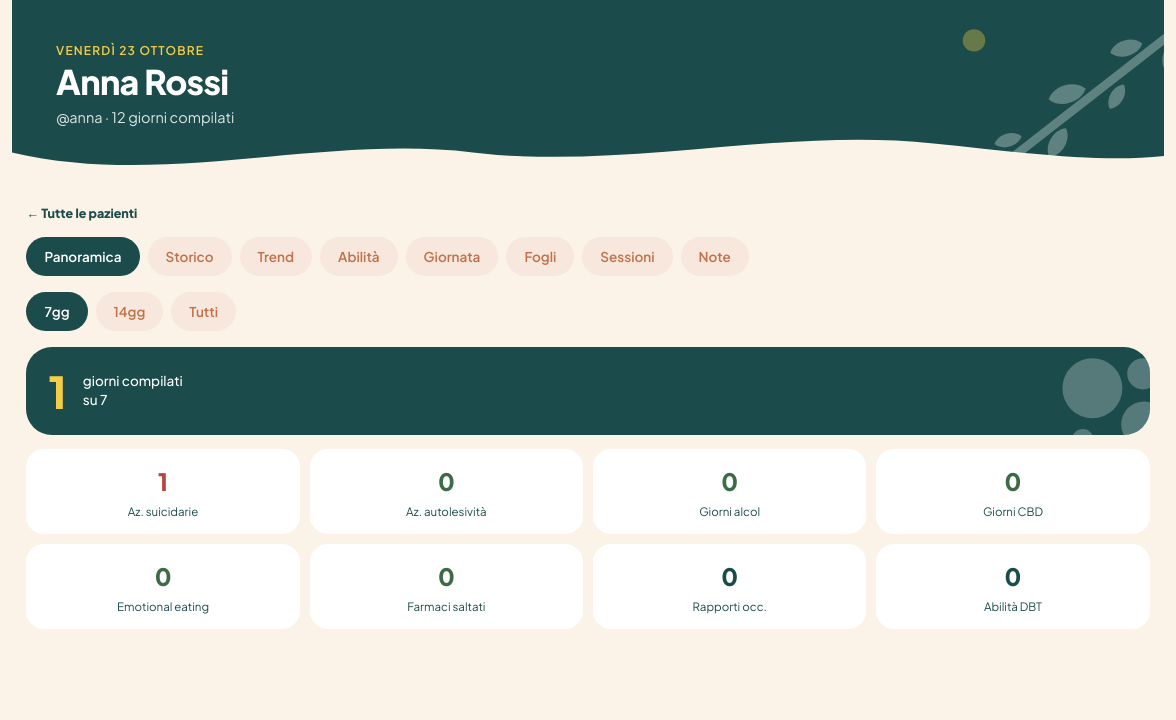
Test: scheda paziente › senza fogli compilati lo dice
expect the text "Az. suicidarie" is shown: met, box [128, 505, 198, 520]
Click the button "Fogli" at (540, 256), box [506, 237, 574, 276]
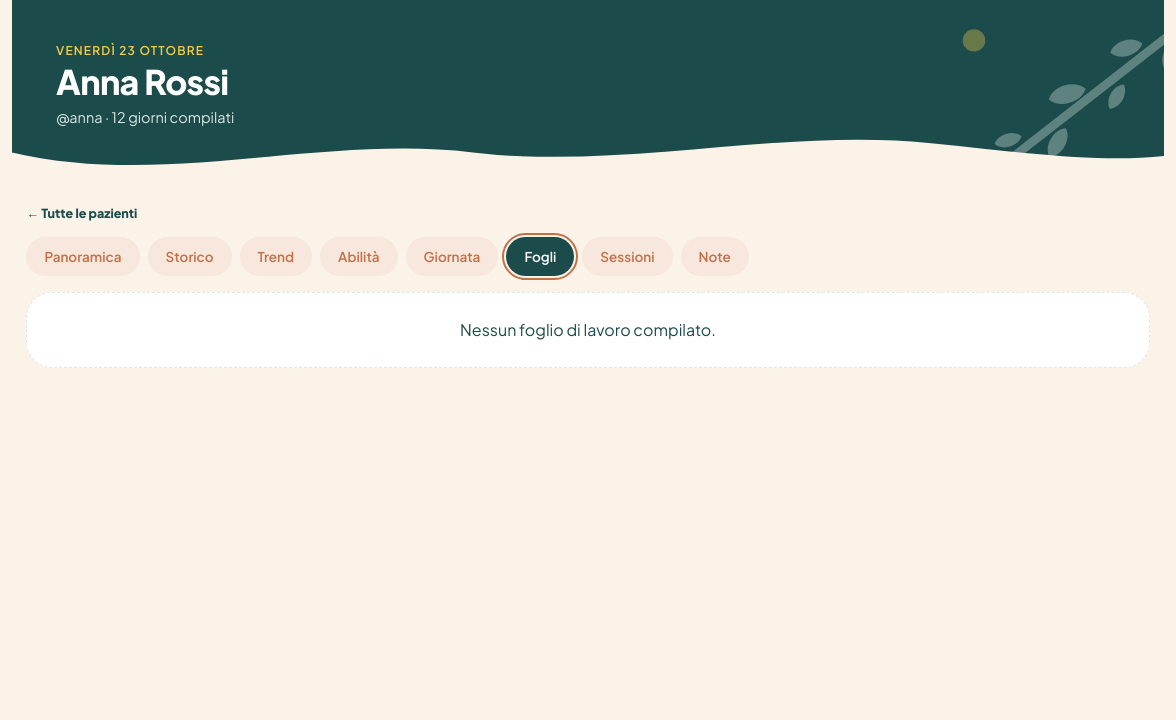
expect the text "Nessun foglio di lavoro compilato." is shown: met, box [26, 292, 1150, 368]
